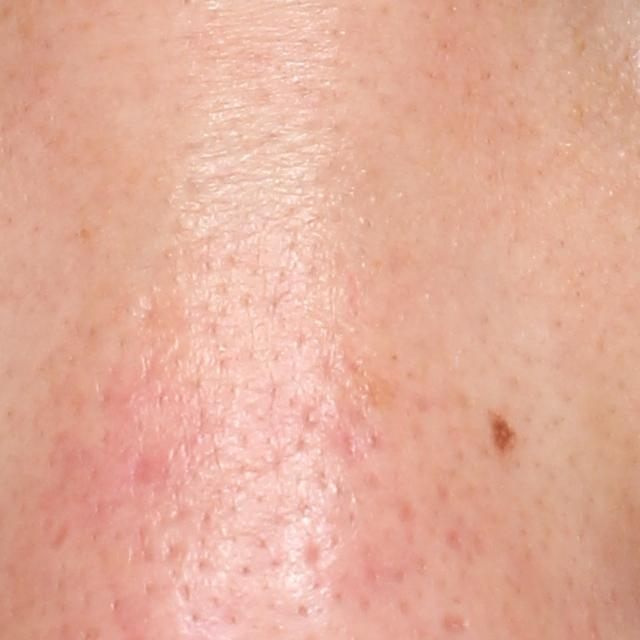atrophic_scar: (434, 611, 470, 635)
nevus: (489, 407, 520, 462)
